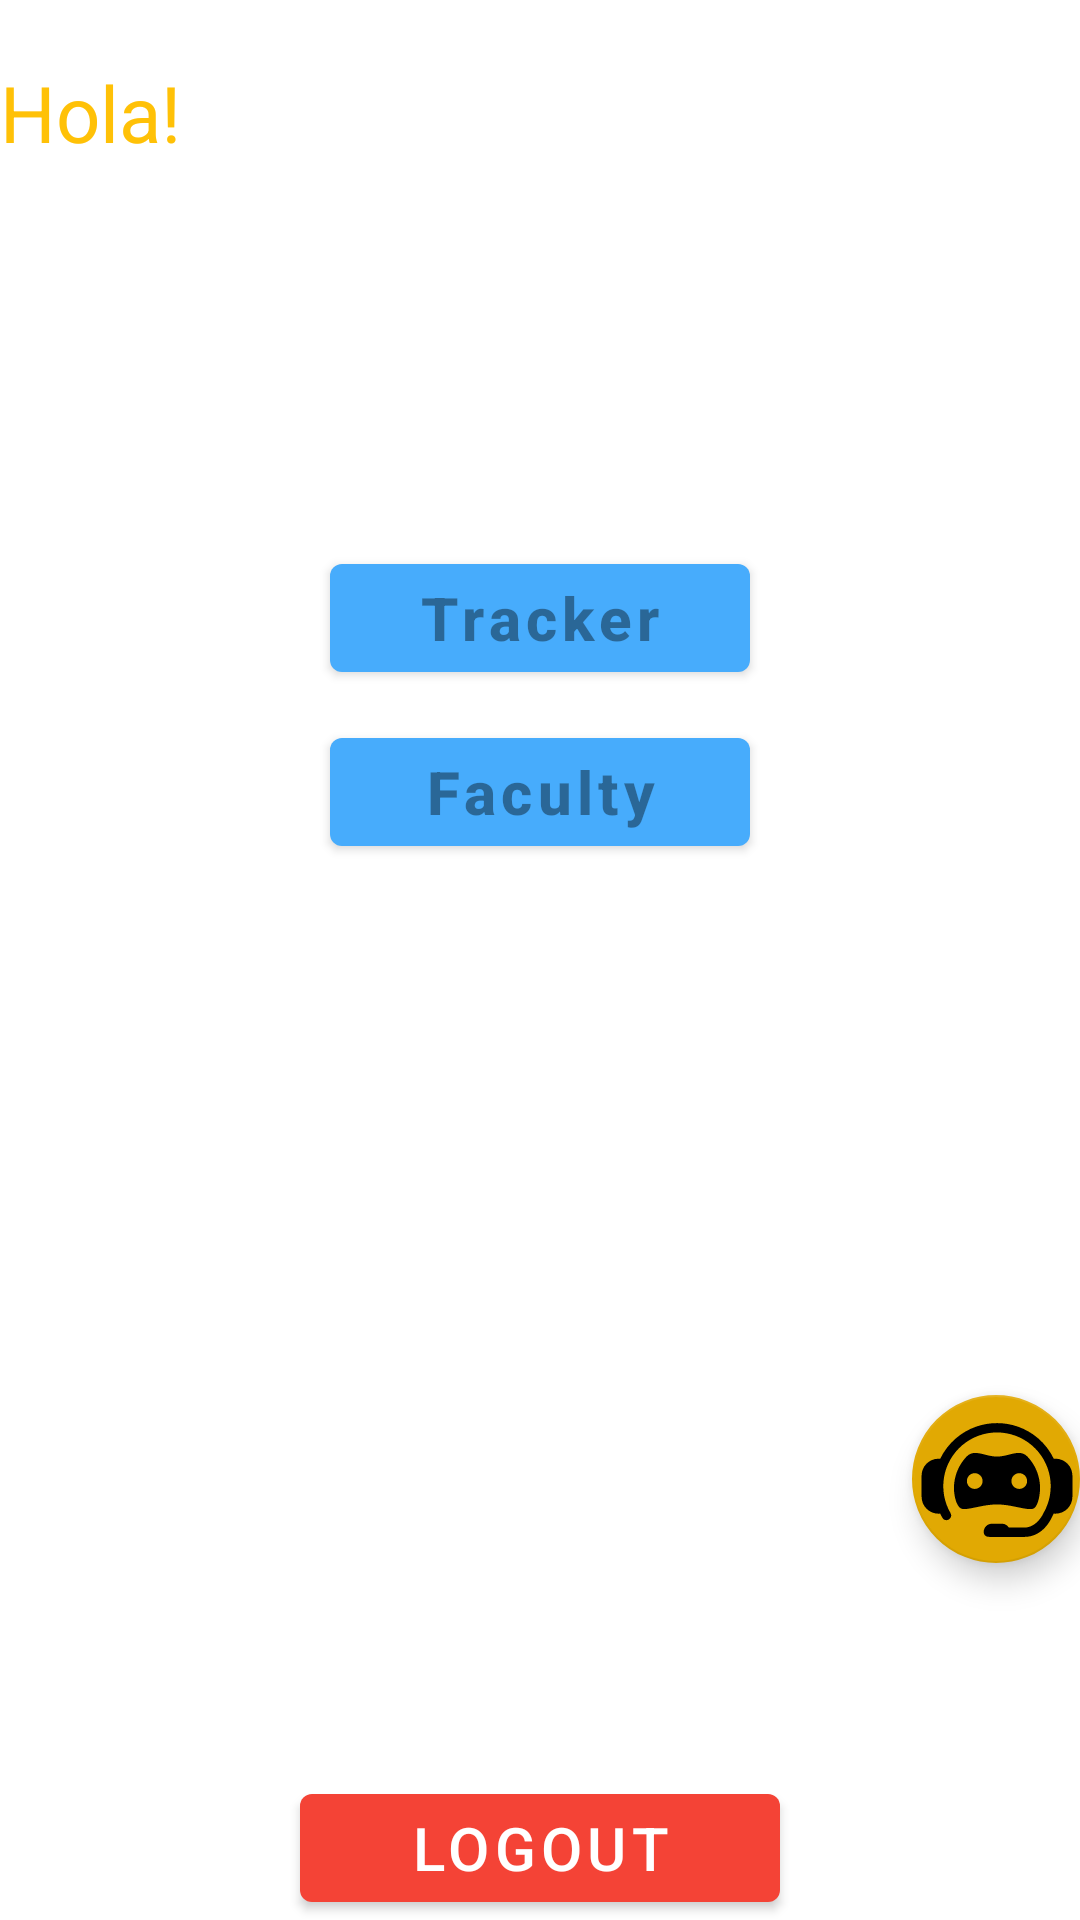

Icon click points for this 1080x1920 phone screenshot, format (x,y):
chatbot: (996,1479)
